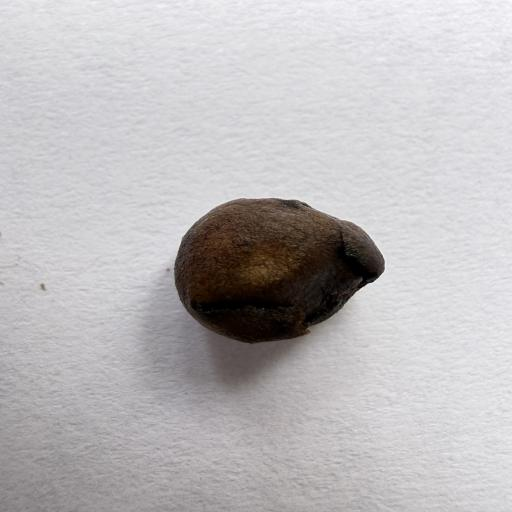Black_pepper: (128, 162, 434, 374)
